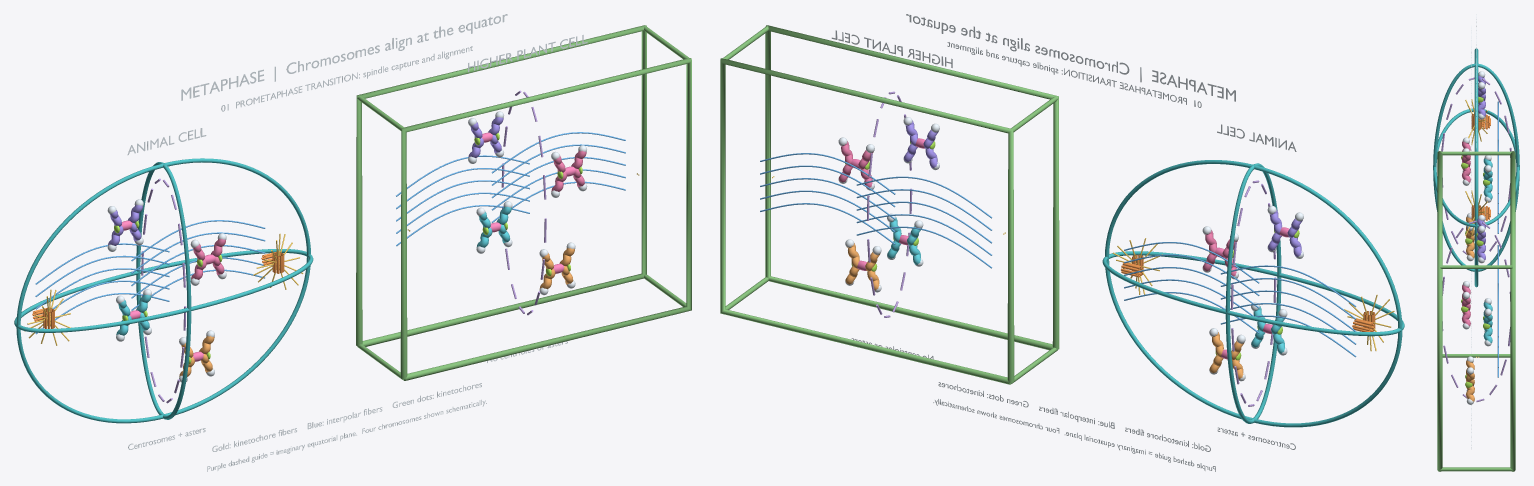
The model's file is metaphase.glb.
3 views of the same model, side by side, from view 1: azimuth 30°, elevation 25°; view 2: azimuth 150°, elevation 25°; view 3: azimuth 270°, elevation 25° (orthographic). The views are drawn at different scales.
Visible parts, largest first — view 1: Cell wall outline.002, Cell wall outline.003, Cutaway cell boundary.003, Cutaway cell boundary.004, Cutaway cell boundary.005, METAPHASE | Chromosomes align at the equator.001, 01 PROMETAPHASE TRANSITION: spindle capture and alignment.00, Purple dashed guide = imaginary equatorial plane. Four chr, Gold: kinetochore fibers Blue: interpolar fibers Gree; view 2: Cell wall outline.003, Cell wall outline.002, Cutaway cell boundary.003, Cutaway cell boundary.004, Cutaway cell boundary.005, METAPHASE | Chromosomes align at the equator.001, 01 PROMETAPHASE TRANSITION: spindle capture and alignment.00, Gold: kinetochore fibers Blue: interpolar fibers Gree, Purple dashed guide = imaginary equatorial plane. Four chr; view 3: Cell wall outline.002, Cell wall outline.003, Cutaway cell boundary.005, Cutaway cell boundary.003, Cutaway cell boundary.004, Wall depth.006, Wall depth.005, Wall depth.007, Wall depth.004, Sister chromatid.021, Sister chromatid.029, Sister chromatid.025 (+6 smaller).
Part boxes in pixels (left/top/right/bottom): Cell wall outline.002: left=400, top=58, right=691, bottom=380; Cell wall outline.003: left=356, top=25, right=646, bottom=346; Cutaway cell boundary.003: left=16, top=158, right=310, bottom=423; Cutaway cell boundary.004: left=14, top=249, right=313, bottom=332; Cutaway cell boundary.005: left=136, top=162, right=191, bottom=419; METAPHASE | Chromosomes align at the equator.001: left=181, top=14, right=507, bottom=100; 01 PROMETAPHASE TRANSITION: spindle capture and alignment.00: left=221, top=46, right=472, bottom=111; Purple dashed guide = imaginary equatorial plane. Four chr: left=207, top=399, right=486, bottom=471; Gold: kinetochore fibers Blue: interpolar fibers Gree: left=212, top=383, right=481, bottom=451; Cell wall outline.003: left=720, top=58, right=1014, bottom=384; Cell wall outline.002: left=765, top=25, right=1059, bottom=350; Cutaway cell boundary.003: left=1105, top=160, right=1402, bottom=427; Cutaway cell boundary.004: left=1102, top=251, right=1404, bottom=336; Cutaway cell boundary.005: left=1225, top=163, right=1281, bottom=423; METAPHASE | Chromosomes align at the equator.001: left=906, top=14, right=1235, bottom=101; 01 PROMETAPHASE TRANSITION: spindle capture and alignment.00: left=947, top=42, right=1201, bottom=107; Gold: kinetochore fibers Blue: interpolar fibers Gree: left=938, top=382, right=1210, bottom=451; Purple dashed guide = imaginary equatorial plane. Four chr: left=933, top=399, right=1215, bottom=471; Cell wall outline.002: left=1437, top=151, right=1442, bottom=471; Cell wall outline.003: left=1510, top=151, right=1515, bottom=471; Cutaway cell boundary.005: left=1433, top=63, right=1519, bottom=271; Cutaway cell boundary.003: left=1474, top=48, right=1478, bottom=287; Cutaway cell boundary.004: left=1433, top=108, right=1519, bottom=227; Wall depth.006: left=1440, top=467, right=1512, bottom=471; Wall depth.005: left=1440, top=151, right=1512, bottom=155; Wall depth.007: left=1440, top=265, right=1512, bottom=268; Wall depth.004: left=1442, top=354, right=1510, bottom=357; Sister chromatid.021: left=1483, top=169, right=1492, bottom=199; Sister chromatid.029: left=1483, top=312, right=1492, bottom=342; Sister chromatid.025: left=1477, top=229, right=1485, bottom=259.
Bounding box in the file's own units: 12.12 × 6.88 × 1.71.
